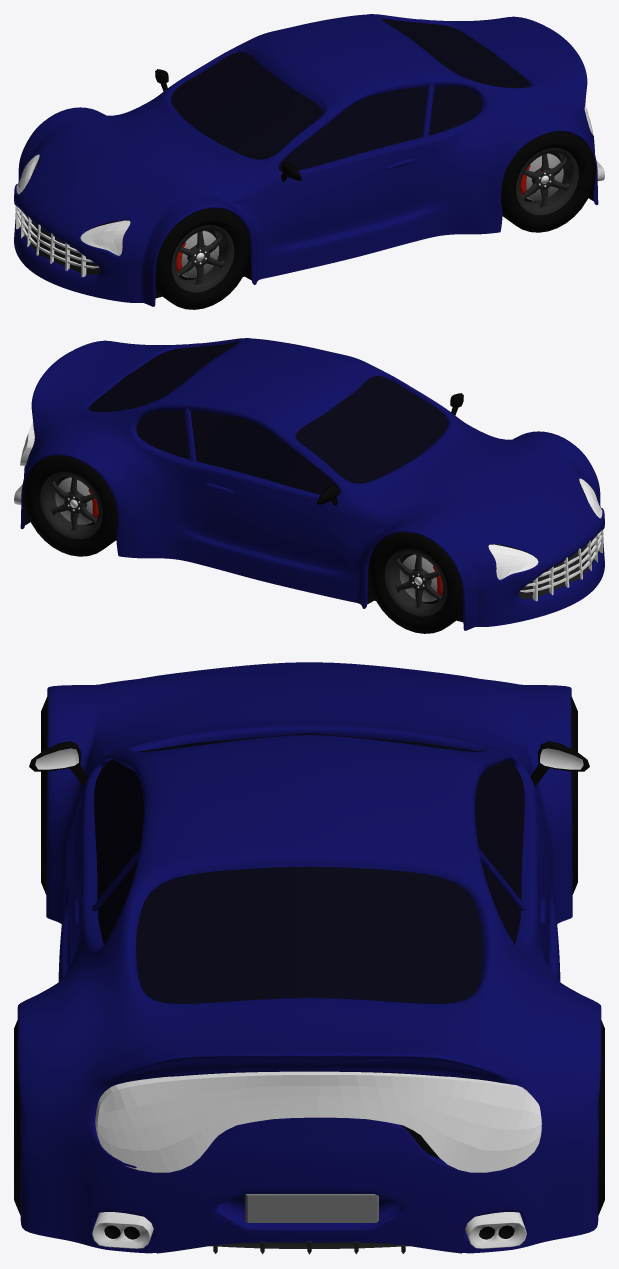
The model's file is racing_car.fbx.
3 renders of one model, top to bottom at view 1: azimuth 30°, elevation 25°; view 2: azimuth 150°, elevation 25°; view 3: azimuth 270°, elevation 25°, orthographic. The views are drawn at different scales.
Parts seen in each view (by area): view 1: Car_new.004; view 2: Car_new.004; view 3: Car_new.004.
Part boxes in pixels (x1=…): Car_new.004: x1=14, y1=14, x2=604, y2=309; Car_new.004: x1=14, y1=338, x2=604, y2=633; Car_new.004: x1=14, y1=662, x2=604, y2=1254.
Size of the model in its own units: 250 by 73 by 126.
